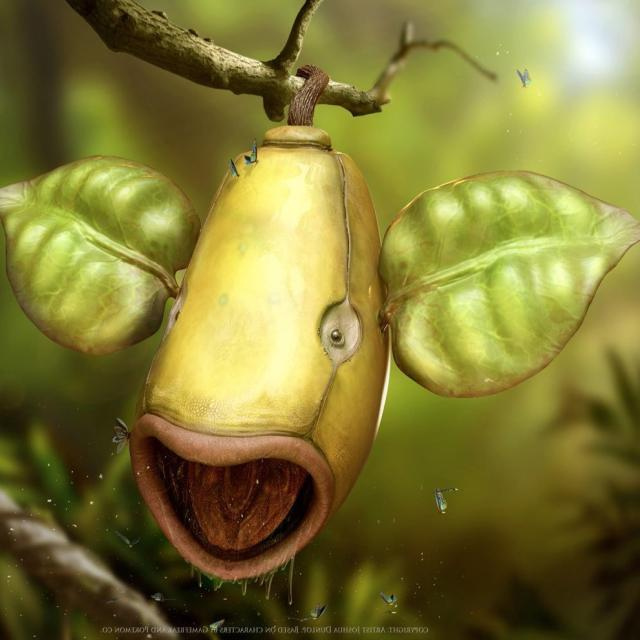Weepinbell: (118, 124, 406, 586)
